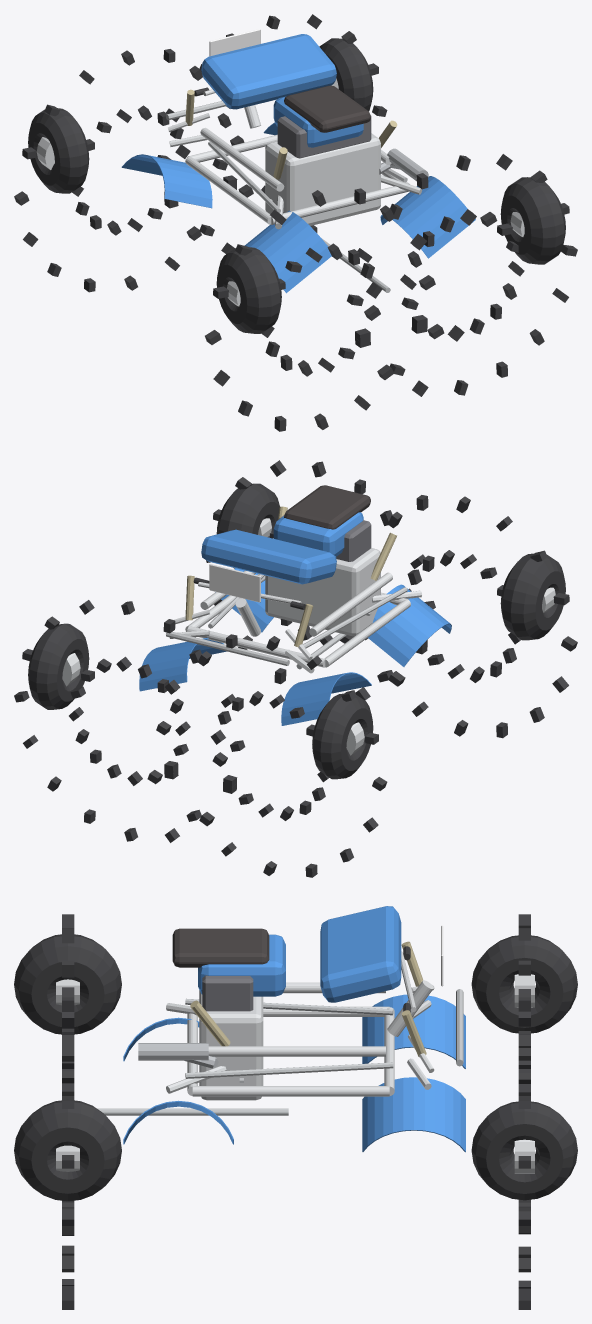
Rendered from atv700.glb.
3 views of the same model, one above another, from view 1: azimuth 30°, elevation 25°; view 2: azimuth 150°, elevation 25°; view 3: azimuth 270°, elevation 25° (orthographic). The views are drawn at different scales.
Parts seen in each view (by area): view 1: b_hood, b_engine, b_wheel_rr_tire, b_wheel_rl_tire, b_wheel_fl_tire, b_rfender_1, b_rfender_-1, b_seat, b_ffender_-1, b_wheel_rr, b_wheel_rl, b_wheel_fr_tire (+11 smaller); view 2: b_engine, b_hood, b_wheel_rl_tire, b_wheel_fr_tire, b_wheel_fl_tire, b_rfender_-1, b_seat, b_wheel_rr_tire, b_ffender_-1, b_wheel_fr, b_ffender_1, b_wheel_fl (+11 smaller); view 3: b_wheel_rr_tire, b_wheel_fr_tire, b_wheel_rl_tire, b_wheel_fl_tire, b_hood, b_ffender_1, b_engine, b_seat, b_ffender_-1, b_tank, b_rail_1, b_wheel_rr (+14 smaller).
Boxes of the visible parts, x1=… form: b_hood: x1=201, y1=34, x2=336, y2=109; b_engine: x1=265, y1=133, x2=380, y2=225; b_wheel_rr_tire: x1=500, y1=177, x2=565, y2=264; b_wheel_rl_tire: x1=216, y1=247, x2=281, y2=333; b_wheel_fl_tire: x1=28, y1=108, x2=89, y2=193; b_rfender_1: x1=380, y1=176, x2=475, y2=258; b_rfender_-1: x1=245, y1=210, x2=331, y2=293; b_seat: x1=284, y1=85, x2=370, y2=132; b_ffender_-1: x1=121, y1=154, x2=212, y2=208; b_wheel_rr: x1=347, y1=154, x2=577, y2=396; b_wheel_rl: x1=261, y1=243, x2=382, y2=376; b_wheel_fr_tire: x1=319, y1=38, x2=373, y2=110; b_engine: x1=265, y1=548, x2=380, y2=636; b_hood: x1=201, y1=529, x2=336, y2=584; b_wheel_rl_tire: x1=500, y1=553, x2=565, y2=640; b_wheel_fr_tire: x1=28, y1=623, x2=89, y2=709; b_wheel_fl_tire: x1=312, y1=693, x2=373, y2=779; b_rfender_-1: x1=368, y1=584, x2=451, y2=666; b_seat: x1=284, y1=485, x2=370, y2=529; b_wheel_rr_tire: x1=216, y1=483, x2=279, y2=568; b_ffender_-1: x1=281, y1=672, x2=371, y2=725; b_wheel_fr: x1=14, y1=600, x2=245, y2=842; b_ffender_1: x1=139, y1=637, x2=226, y2=691; b_wheel_fl: x1=210, y1=691, x2=329, y2=820; b_wheel_rr_tire: x1=14, y1=1099, x2=121, y2=1201; b_wheel_fr_tire: x1=471, y1=1101, x2=577, y2=1200; b_wheel_rl_tire: x1=14, y1=934, x2=121, y2=1034; b_wheel_fl_tire: x1=471, y1=935, x2=577, y2=1033; b_hood: x1=320, y1=906, x2=401, y2=1002; b_ffender_1: x1=362, y1=1077, x2=465, y2=1152; b_engine: x1=199, y1=990, x2=263, y2=1100; b_seat: x1=172, y1=928, x2=269, y2=967; b_ffender_-1: x1=362, y1=994, x2=465, y2=1068; b_tank: x1=198, y1=934, x2=285, y2=996; b_rail_1: x1=192, y1=1086, x2=389, y2=1096; b_wheel_rr: x1=62, y1=997, x2=74, y2=1309.
Bounding box in the file's own units: 2.9 × 2.01 × 3.21.
